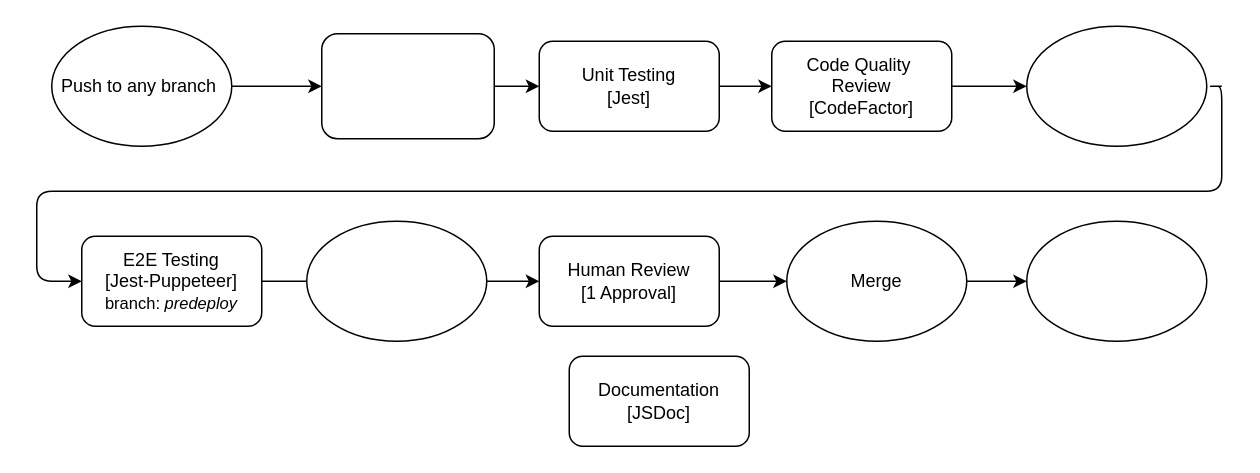
Some shapes in this 1260 by 473 pixel diagram are drawn without their labels. The centre of each missing label's shape, as x and y in pixels:
Deploy: point (1116, 280)
Linting [HTML: HTMLHint JS: ESLint CSS: stylelint]: point (407, 85)
Pull Request to main: point (396, 280)
Pull Request to predeploytest: point (1116, 85)
